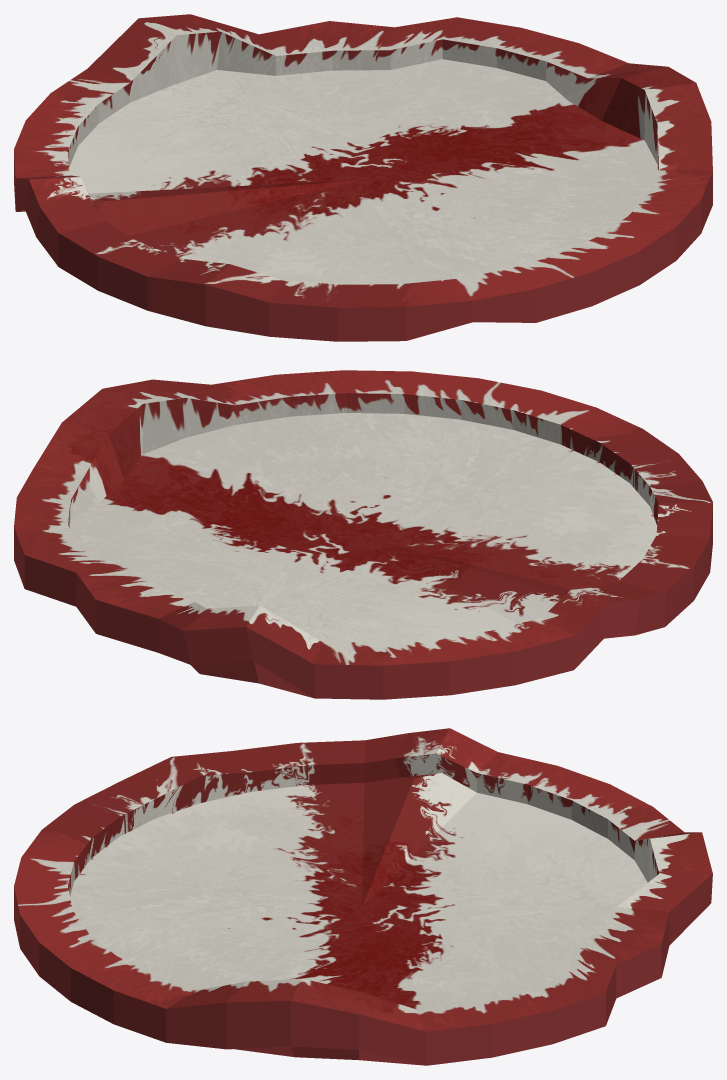
The picture shows the model from 3 angles, top to bottom: view 1: azimuth 30°, elevation 25°; view 2: azimuth 150°, elevation 25°; view 3: azimuth 270°, elevation 25°; orthographic projection.
Visible parts, largest first — view 1: Cylinder.085; view 2: Cylinder.085; view 3: Cylinder.085.
Part boxes in pixels (left/top/right/bottom): Cylinder.085: left=14, top=14, right=712, bottom=341; Cylinder.085: left=14, top=370, right=712, bottom=699; Cylinder.085: left=14, top=728, right=712, bottom=1065.
Size of the model in its own units: 200 by 20.41 by 201.
Materials: 3 (1 with a texture image).
